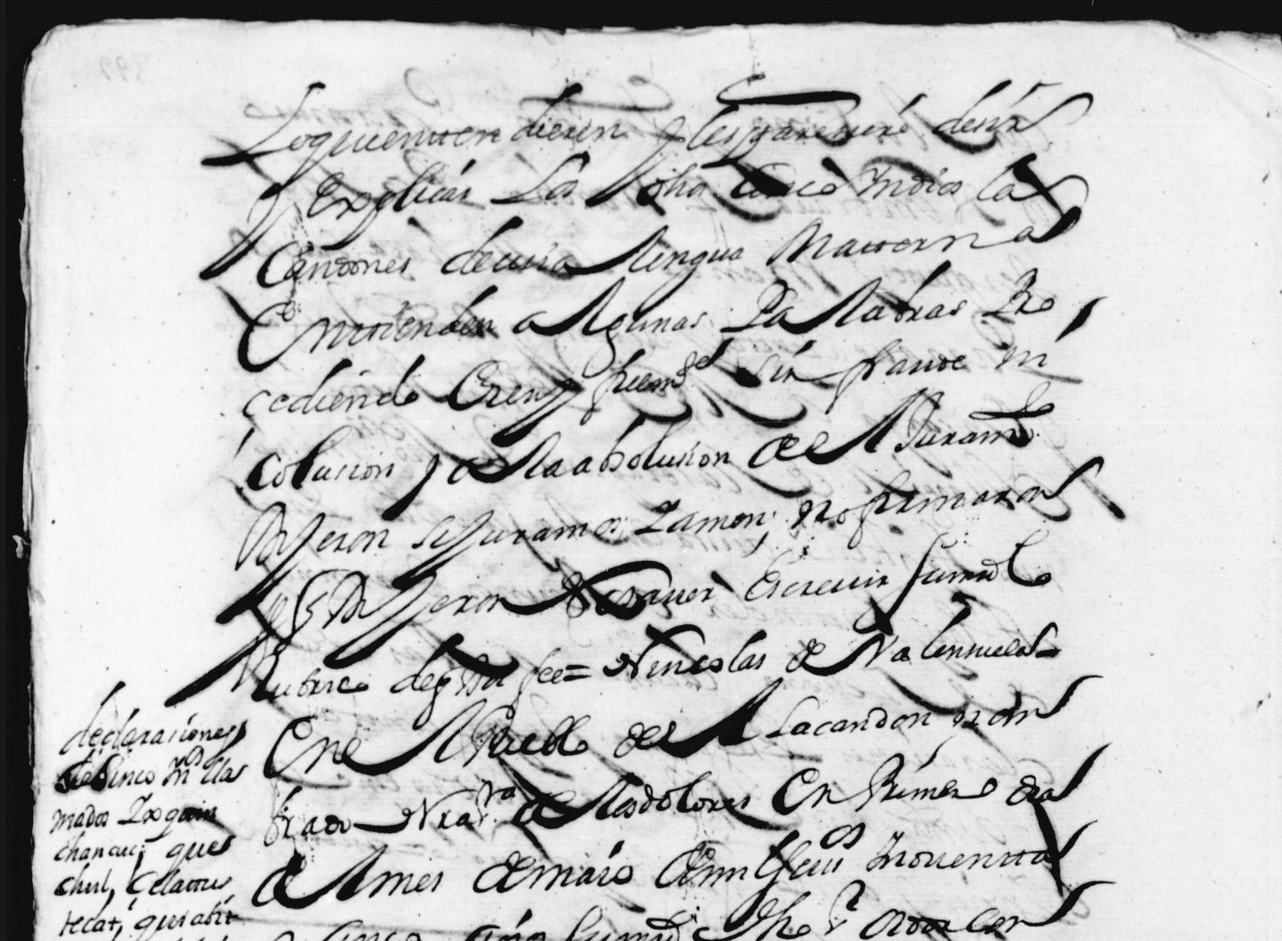lacandon: (765, 695, 931, 738)
